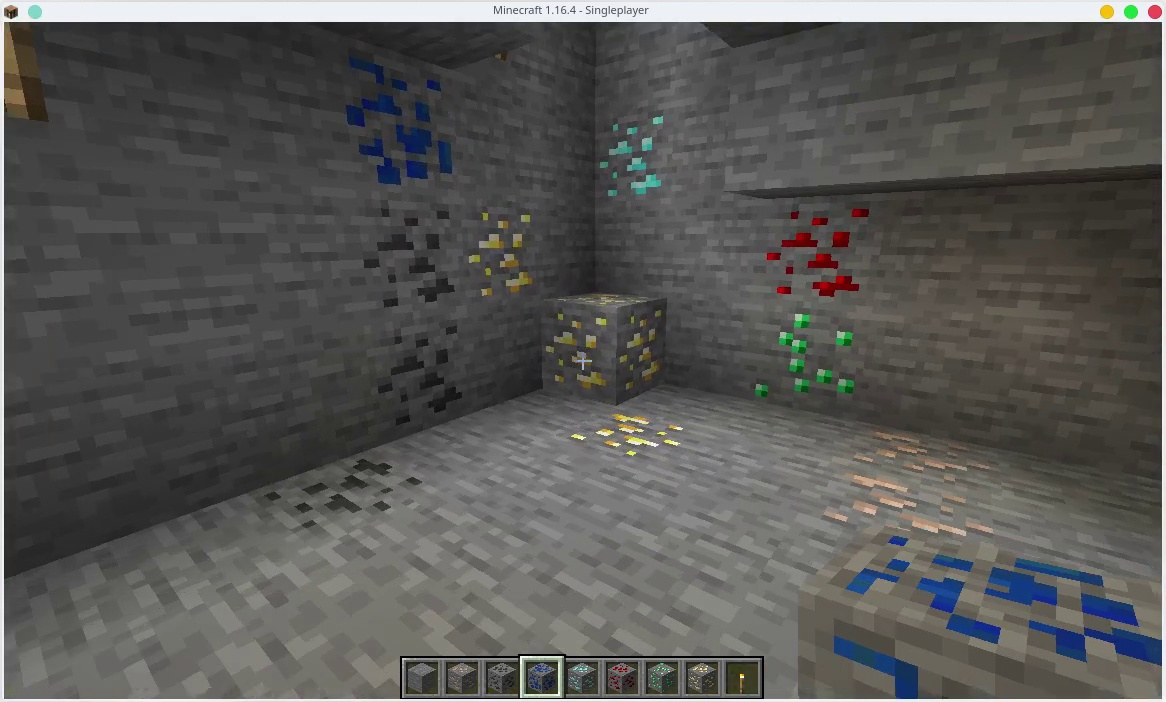gold: (540, 292, 659, 388), (463, 204, 534, 295), (566, 409, 690, 461), (686, 657, 719, 695)
